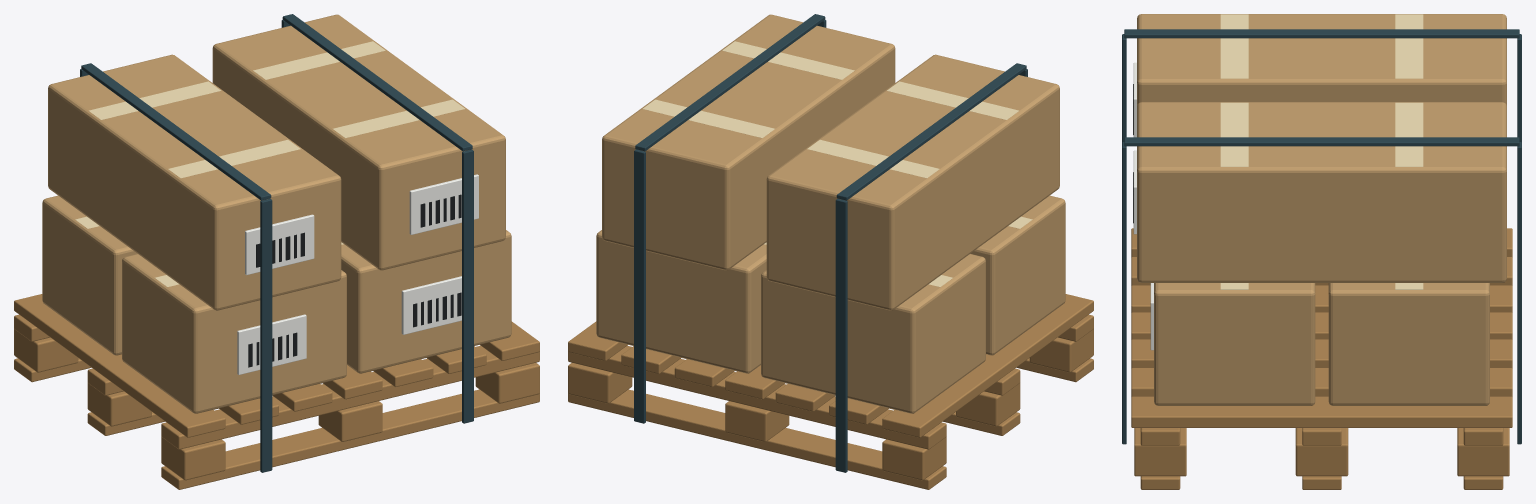
The model's file is palletized_case_load.glb.
3 views of the same model, side by side, from view 1: azimuth 30°, elevation 25°; view 2: azimuth 150°, elevation 25°; view 3: azimuth 270°, elevation 25° (orthographic). The views are drawn at different scales.
Visible parts, largest first — view 1: CASE_1_0_0, CASE_1_0_1, CASE_0_0_0, CASE_1_1_0, CASE_0_0_1, CASE_1_1_1, CASE_0_1_0, PALLET_BOTTOM_0, PALLET_TOP_DECK_0, PALLET_STRINGER_0, LOAD_STRAP_FRONT_-0.34, LOAD_STRAP_FRONT_0.34 (+23 smaller); view 2: CASE_1_1_0, CASE_1_1_1, CASE_0_1_0, CASE_1_0_0, CASE_0_1_1, CASE_1_0_1, CASE_0_0_0, PALLET_BOTTOM_2, PALLET_TOP_DECK_0, PALLET_STRINGER_2, LOAD_STRAP_BACK_-0.34, LOAD_STRAP_BACK_0.34 (+19 smaller); view 3: CASE_1_0_1, CASE_1_1_1, CASE_0_0_1, CASE_0_1_1, CASE_1_0_0, CASE_1_1_0, PALLET_TOP_DECK_6, LOAD_STRAP_TOP_0.34, LOAD_STRAP_TOP_-0.34, PALLET_BLOCK_1_0.53, PALLET_BLOCK_0_0.53, PALLET_BLOCK_2_0.53 (+19 smaller).
Boxes of the visible parts, x1=… form: CASE_1_0_0: x1=128, y1=113, x2=341, y2=310; CASE_1_0_1: x1=293, y1=73, x2=505, y2=270; CASE_0_0_0: x1=122, y1=254, x2=346, y2=413; CASE_1_1_0: x1=48, y1=54, x2=258, y2=250; CASE_0_0_1: x1=341, y1=230, x2=511, y2=373; CASE_1_1_1: x1=212, y1=14, x2=423, y2=141; CASE_0_1_0: x1=42, y1=195, x2=137, y2=355; PALLET_BOTTOM_0: x1=161, y1=389, x2=539, y2=489; PALLET_TOP_DECK_0: x1=14, y1=294, x2=225, y2=437; PALLET_STRINGER_0: x1=161, y1=345, x2=539, y2=449; LOAD_STRAP_FRONT_-0.34: x1=260, y1=198, x2=272, y2=472; LOAD_STRAP_FRONT_0.34: x1=462, y1=149, x2=473, y2=423; CASE_1_1_0: x1=766, y1=114, x2=979, y2=310; CASE_1_1_1: x1=602, y1=73, x2=814, y2=270; CASE_0_1_0: x1=761, y1=254, x2=985, y2=413; CASE_1_0_0: x1=849, y1=54, x2=1059, y2=250; CASE_0_1_1: x1=596, y1=230, x2=766, y2=373; CASE_1_0_1: x1=684, y1=14, x2=895, y2=141; CASE_0_0_0: x1=970, y1=195, x2=1065, y2=355; PALLET_BOTTOM_2: x1=568, y1=389, x2=946, y2=489; PALLET_TOP_DECK_0: x1=882, y1=294, x2=1093, y2=437; PALLET_STRINGER_2: x1=568, y1=345, x2=946, y2=449; LOAD_STRAP_BACK_-0.34: x1=835, y1=198, x2=847, y2=472; LOAD_STRAP_BACK_0.34: x1=634, y1=149, x2=645, y2=423; CASE_1_0_1: x1=1137, y1=102, x2=1327, y2=282; CASE_1_1_1: x1=1316, y1=102, x2=1506, y2=282; CASE_0_0_1: x1=1154, y1=283, x2=1315, y2=405; CASE_0_1_1: x1=1328, y1=283, x2=1489, y2=405; CASE_1_0_0: x1=1137, y1=14, x2=1327, y2=105; CASE_1_1_0: x1=1316, y1=14, x2=1506, y2=105; PALLET_TOP_DECK_6: x1=1131, y1=396, x2=1512, y2=427; LOAD_STRAP_TOP_0.34: x1=1124, y1=137, x2=1519, y2=146; LOAD_STRAP_TOP_-0.34: x1=1124, y1=29, x2=1519, y2=38; PALLET_BLOCK_1_0.53: x1=1295, y1=428, x2=1348, y2=476; PALLET_BLOCK_0_0.53: x1=1134, y1=428, x2=1186, y2=476; PALLET_BLOCK_2_0.53: x1=1457, y1=428, x2=1509, y2=476.
Size of the model in its own units: 1.22 by 0.9044 by 1.06.
